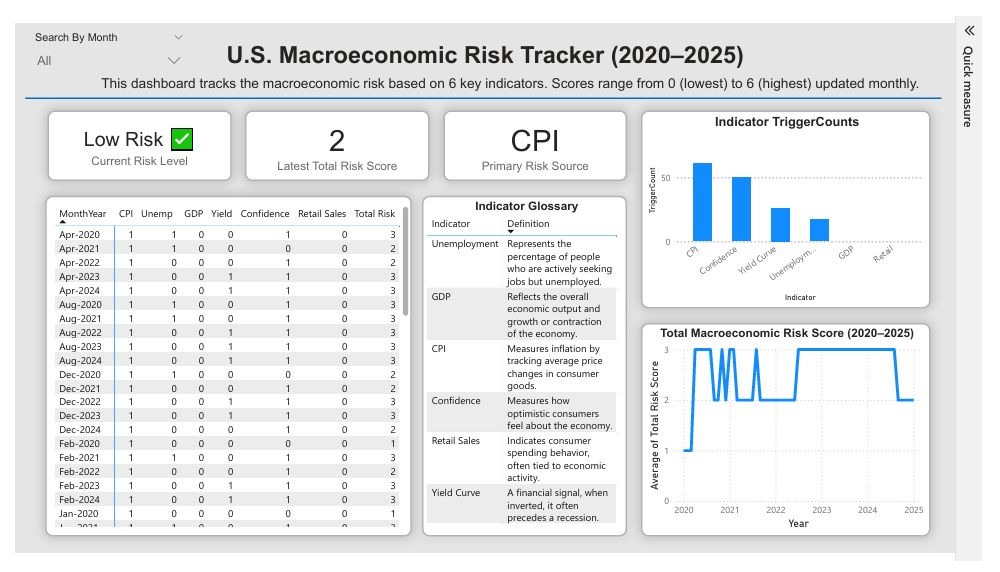

What the dashboard file says about the page in this screenshot:
{"tool":"powerbi","page":{"name":"Page 1","canvas":[1280,720],"ordinal":0},"visuals":[{"type":"lineChart","title":"Total Macroeconomic Risk Score (2020–2025)","fields":{"Category":["Sheet1.Date.Variation.Date Hierarchy.Year","Sheet1.Date.Variation.Date Hierarchy.Quarter","Sheet1.Date.Variation.Date Hierarchy.Month","Sheet1.Date.Variation.Date Hierarchy.Day"],"Y":["Avg(Sheet1.Total Risk Score)"]},"box":[851.8,406.8,394,290.6],"z":0},{"type":"pivotTable","fields":{"Values":["Sum(Sheet1.CPI Risk)","Sum(Sheet1.Unemployment Risk)","Sum(Sheet1.GDP Risk)","Sum(Sheet1.Yield Curve Risk)","Sum(Sheet1.Consumer Confidence Risk)","Sum(Sheet1.Retail Sales Risk)","Sum(Sheet1.Total Risk Score)"],"Rows":["Sheet1.MonthYear"]},"box":[41.1,233.9,498.9,463.5],"z":1000},{"type":"slicer","fields":{"Values":["Sheet1.MonthYear"]},"box":[14.2,5.7,226.8,59.5],"z":2000},{"type":"textbox","box":[217.3,19.2,845.3,65.5],"z":3000},{"type":"card","fields":{"Values":["Sheet1.Risk Level"]},"box":[43.9,117.6,250.9,96.4],"z":4000},{"type":"card","fields":{"Values":["Sheet1.Latest Total Risk Score"]},"box":[313.2,117.6,250.9,96.4],"z":5000},{"type":"columnChart","title":"Indicator TriggerCounts","fields":{"Category":["IndicatorTriggerCounts.Indicator"],"Y":["Sum(IndicatorTriggerCounts.TriggerCount)"]},"box":[851.8,117.6,394,269.3],"z":6000},{"type":"card","fields":{"Values":["IndicatorTriggerCounts.Most Triggered Indicator"]},"box":[582.5,117.6,250.9,96.4],"z":7000},{"type":"textbox","box":[102.3,65.5,1144.2,36.8],"z":8000},{"type":"tableEx","title":"Indicator Glossary","fields":{"Values":["IndicatorGlossary.Indicator","IndicatorGlossary.Definition"]},"box":[554.2,233.9,279.2,463.5],"z":8001},{"type":"shape","box":[14.2,85,1247.2,32.6],"z":8002}]}

Visuals, with their boxes on the page's 1280x720 design canvas (x1, y1, x2, y2). These are canvas units, not pixel positions in the 1000x572 screenshot, which may show the page scaled, cropped or inside an application window:
"Total Macroeconomic Risk Score (2020–2025)" lineChart: [852, 407, 1246, 697]
pivotTable - Sum(Sheet1.CPI Risk) x Sum(Sheet1.Unemployment Risk): [41, 234, 540, 697]
slicer - Sheet1.MonthYear: [14, 6, 241, 65]
textbox: [217, 19, 1063, 85]
card - Sheet1.Risk Level: [44, 118, 295, 214]
card - Sheet1.Latest Total Risk Score: [313, 118, 564, 214]
"Indicator TriggerCounts" columnChart: [852, 118, 1246, 387]
card - IndicatorTriggerCounts.Most Triggered Indicator: [582, 118, 833, 214]
textbox: [102, 66, 1246, 102]
"Indicator Glossary" tableEx: [554, 234, 833, 697]
shape: [14, 85, 1261, 118]
